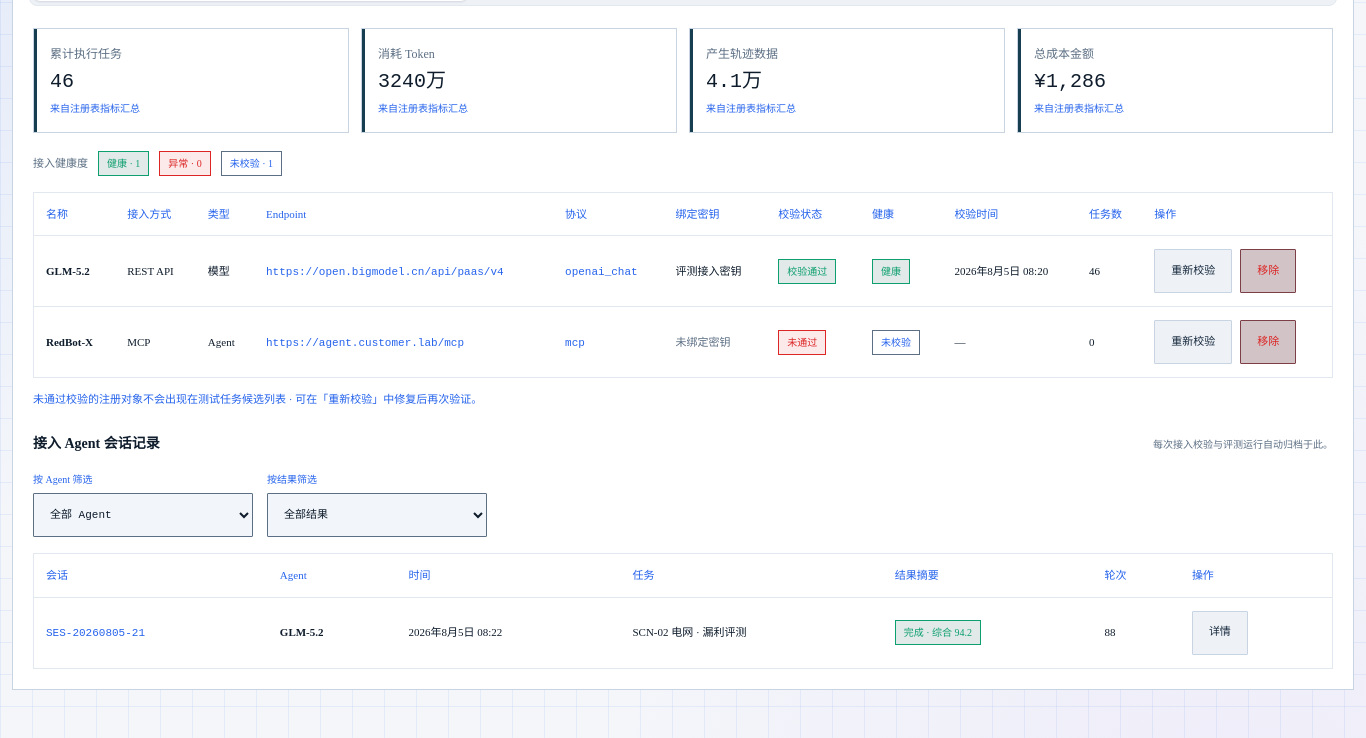
Scenario: Gateway › filters sessions and opens a structured session detail dialog
(page scrolled)
expect the text "GLM-5.2" next to "REST API" is shown: met, box [46,265,90,277]
expect the text "SES-20260805-21" is shown: met, box [46,627,145,639]
What coordinates should you click on to do the following:
click the button "详情"
I would click on:
 (1220, 633)
Its box is [1192,611,1248,655].
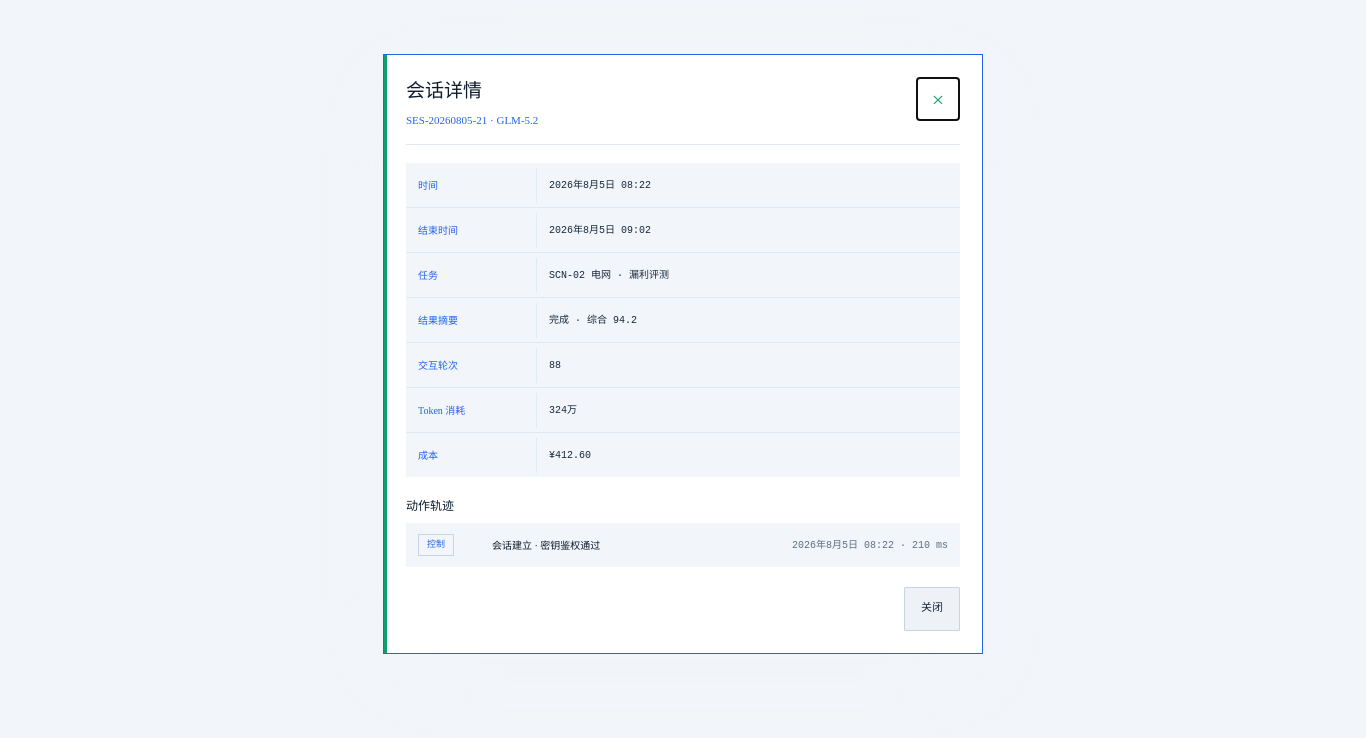
expect the dialog "会话详情" shows "交互轮次": met, box [418,360,458,371]
expect the dialog "会话详情" shows "动作轨迹": met, box [406,499,454,513]
expect the dialog "会话详情" shows "会话建立 · 密钥鉴权通过": met, box [492,540,600,550]
